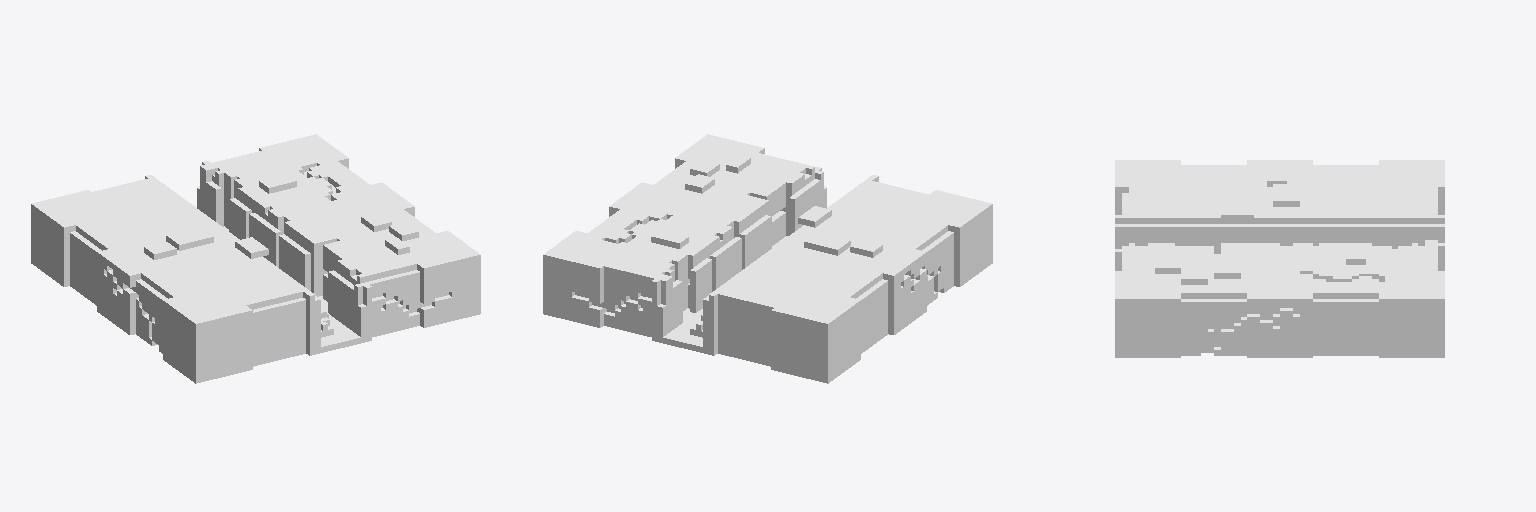
Rendered from vox-49-SplitGround_Water.obj.
3 views of the same model, side by side, from view 1: azimuth 30°, elevation 25°; view 2: azimuth 150°, elevation 25°; view 3: azimuth 270°, elevation 25° (orthographic).
Parts seen in each view (by area): view 1: SplitGround_Water; view 2: SplitGround_Water; view 3: SplitGround_Water.
Part boxes in pixels (bbox=[...]): SplitGround_Water: bbox=[31, 134, 480, 383]; SplitGround_Water: bbox=[543, 134, 992, 383]; SplitGround_Water: bbox=[1115, 160, 1444, 357].
Bounding box in the file's own units: 5 × 1.1 × 5.